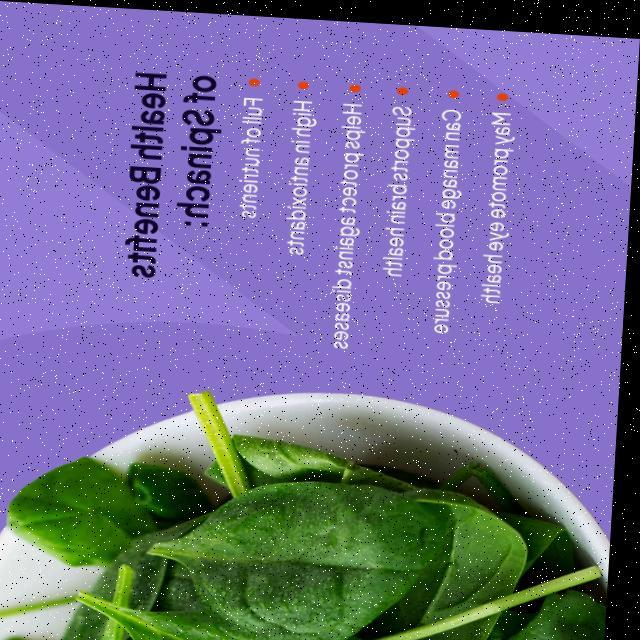Spinach: (0, 390, 622, 640)
